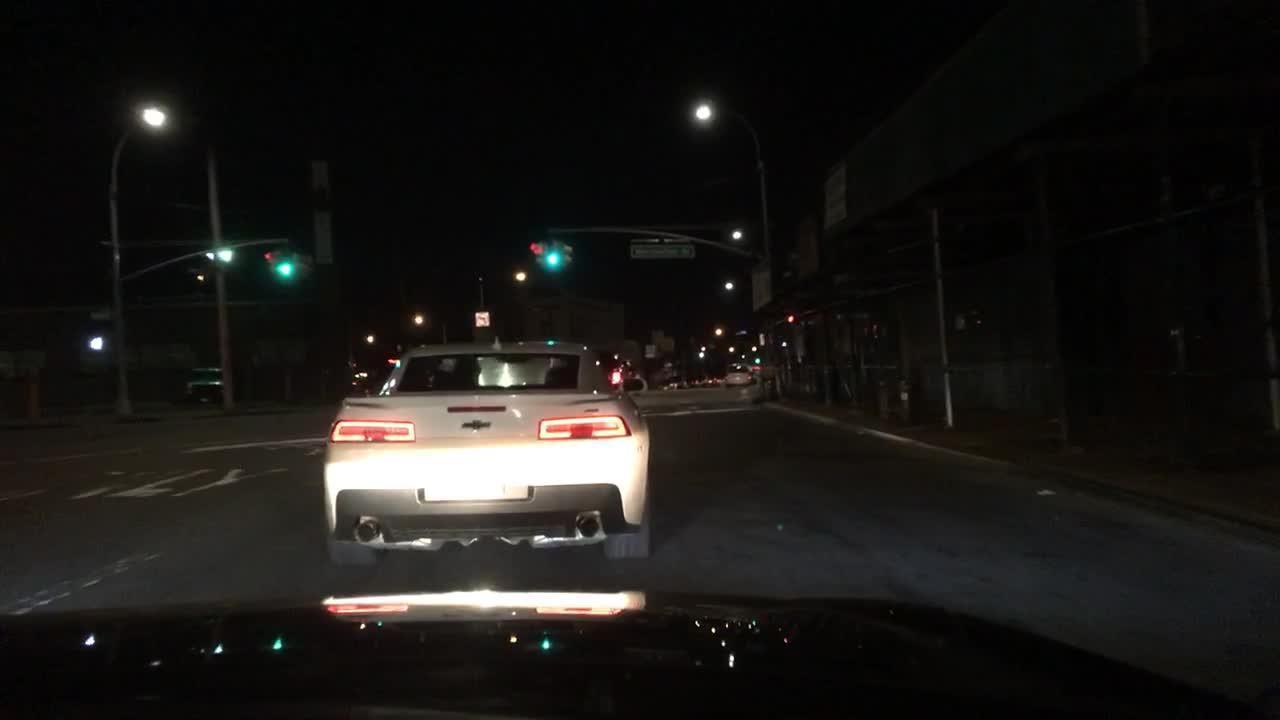chevrolet: (453, 416, 492, 435)
